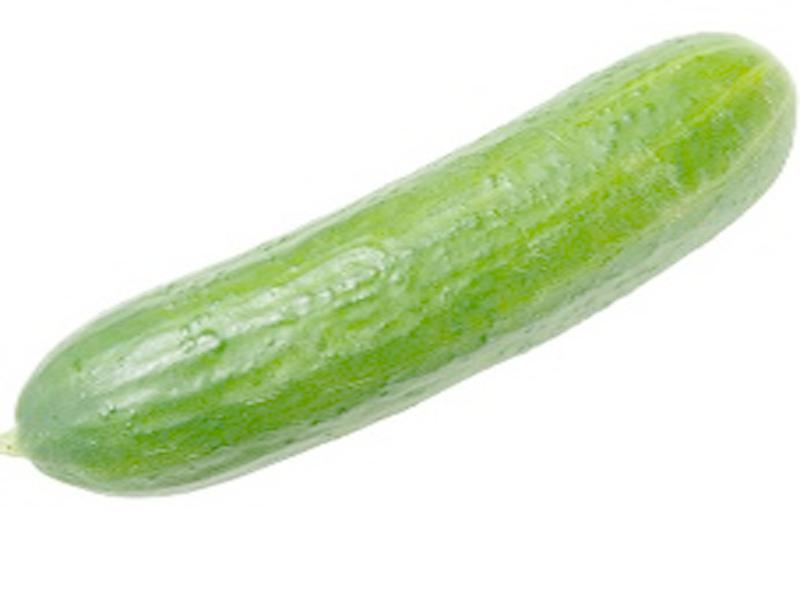Cucumber: (4, 34, 796, 500)
